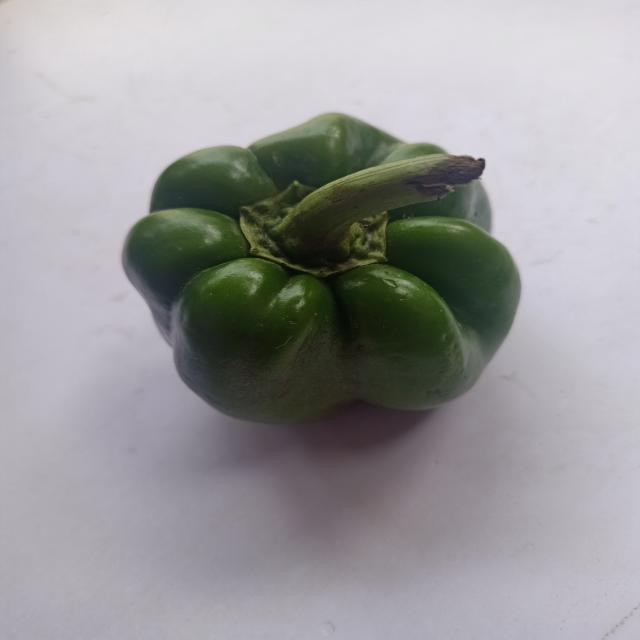Capsicum: (120, 101, 545, 482)
